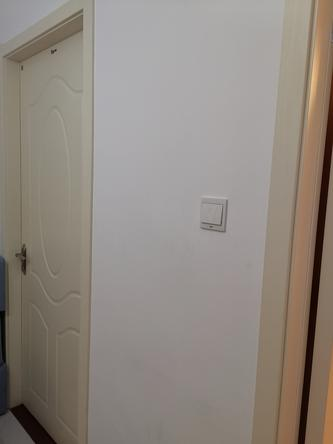switch: (190, 194, 233, 228)
